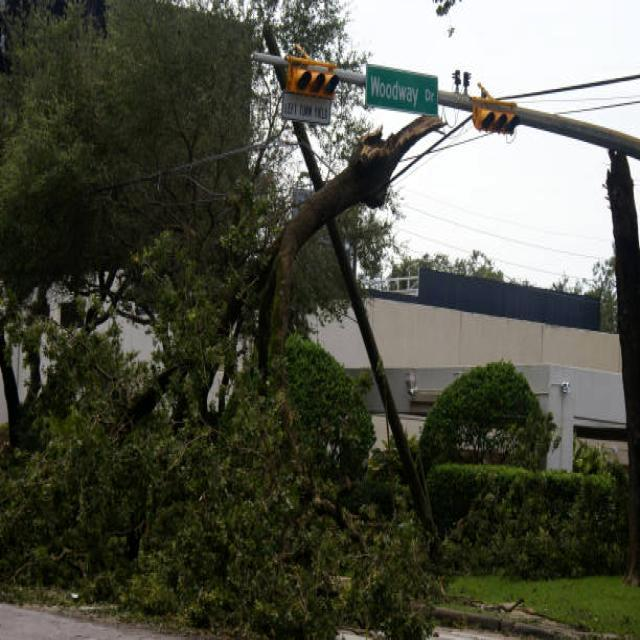Broken Pole: (253, 23, 445, 550)
